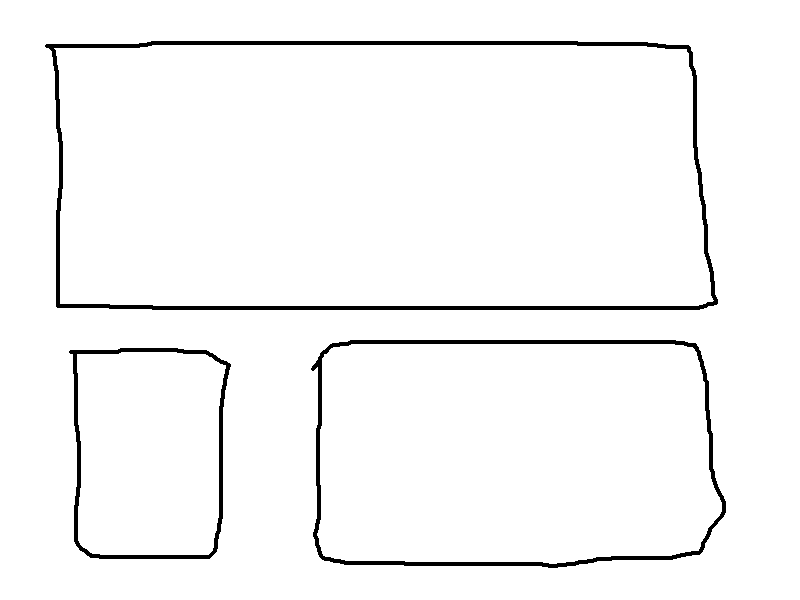rect: (42, 34, 721, 319), (309, 334, 730, 572), (63, 341, 232, 564)
